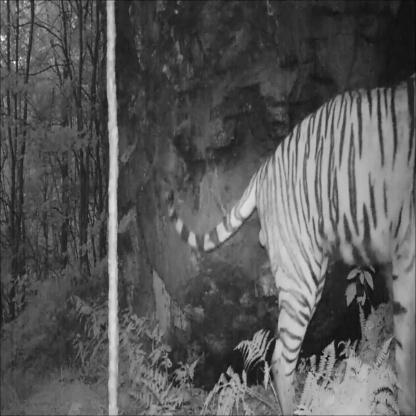Tiger: (164, 72, 416, 416)
